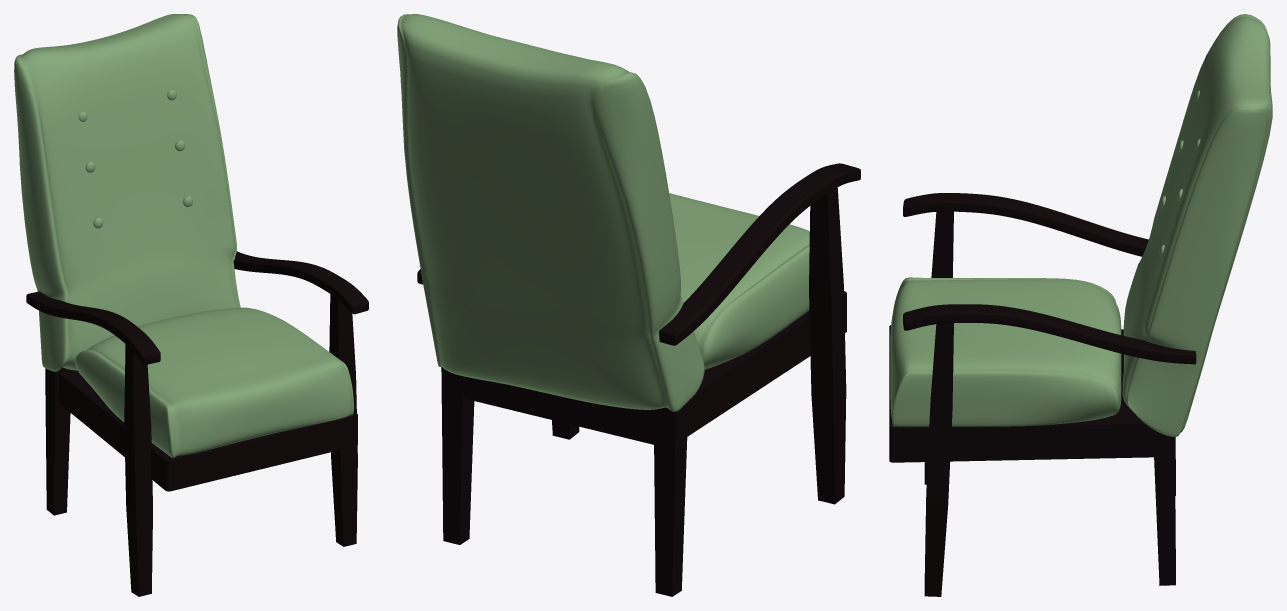
File: Armchair.dae
3 views of the same model, side by side, from view 1: azimuth 30°, elevation 25°; view 2: azimuth 150°, elevation 25°; view 3: azimuth 270°, elevation 25° (orthographic). The views are drawn at different scales.
Visible parts, largest first — view 1: Chair; view 2: Chair; view 3: Chair.
Boxes of the visible parts, x1,y1,x2,y2 form: Chair: (14, 14, 368, 596); Chair: (397, 14, 860, 596); Chair: (889, 14, 1272, 596).
Bounding box in the file's own units: 0.7529 × 0.9884 × 1.37.
